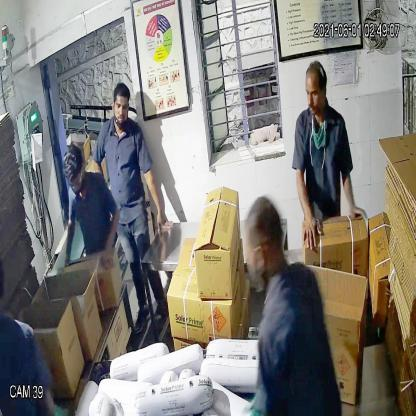goggles: (65, 169, 86, 194)
no_goggles: (304, 85, 326, 104), (110, 97, 132, 116)
